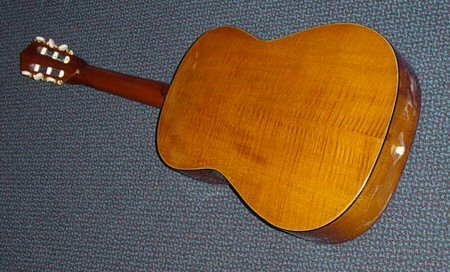guitar: (18, 23, 423, 244)
